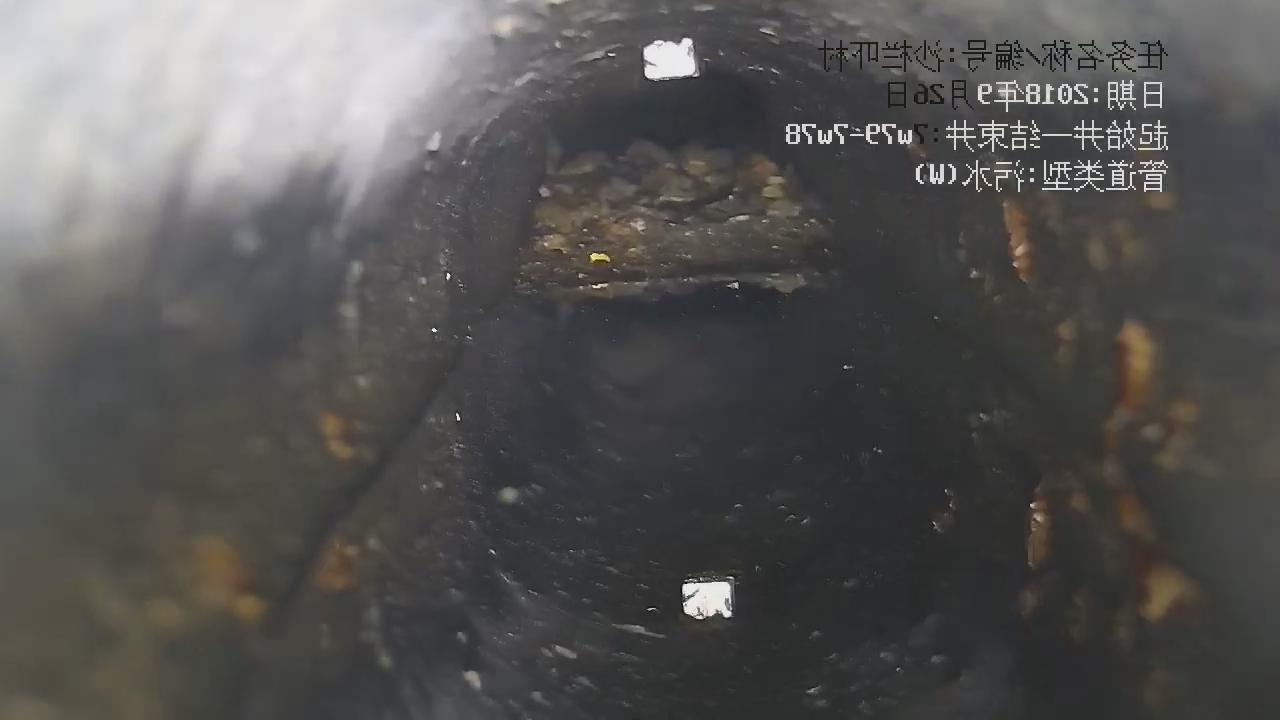CJ: (520, 139, 828, 296)
ZGAJ: (683, 577, 736, 619), (644, 38, 698, 79)
